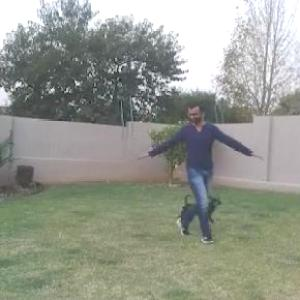land: (134, 101, 242, 230)
